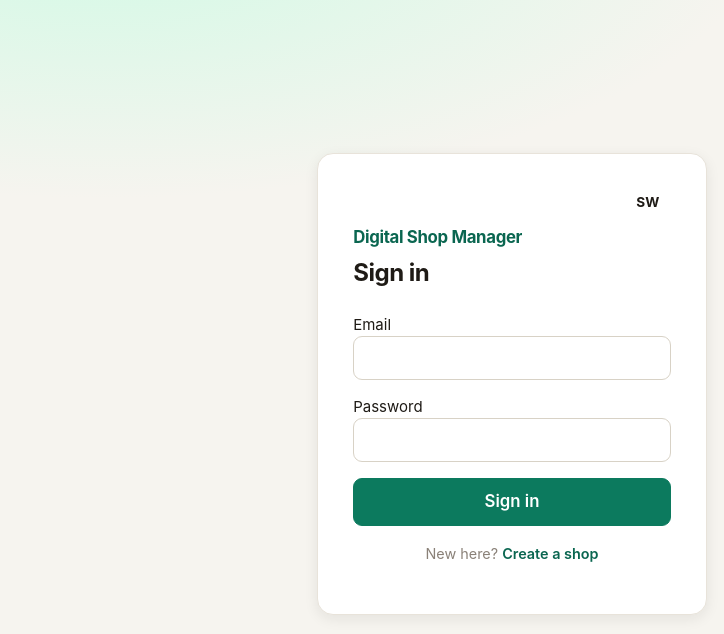
LoginPage › switches to Kiswahili via the language toggle
The image size is (724, 634).
Click the button with aria-label "Switch language". click: [648, 203]
box: [625, 189, 671, 217]
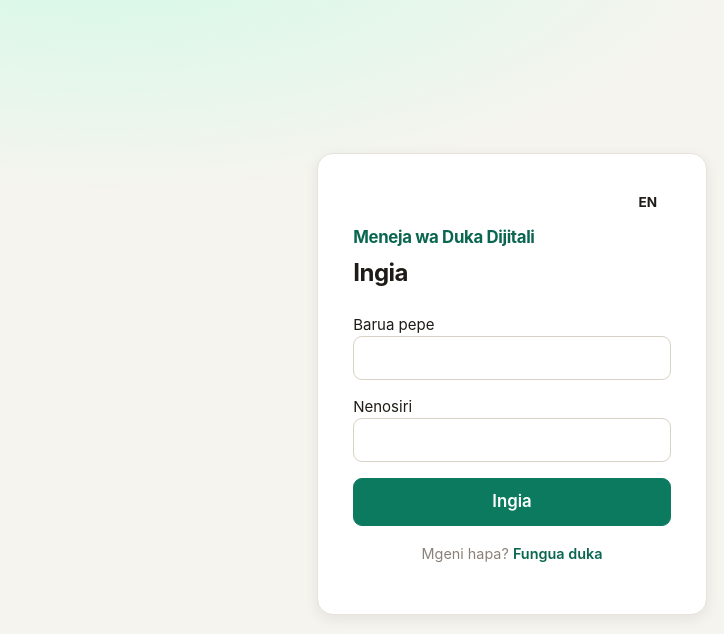
Now the button "Ingia" is shown, box [353, 478, 671, 526]
